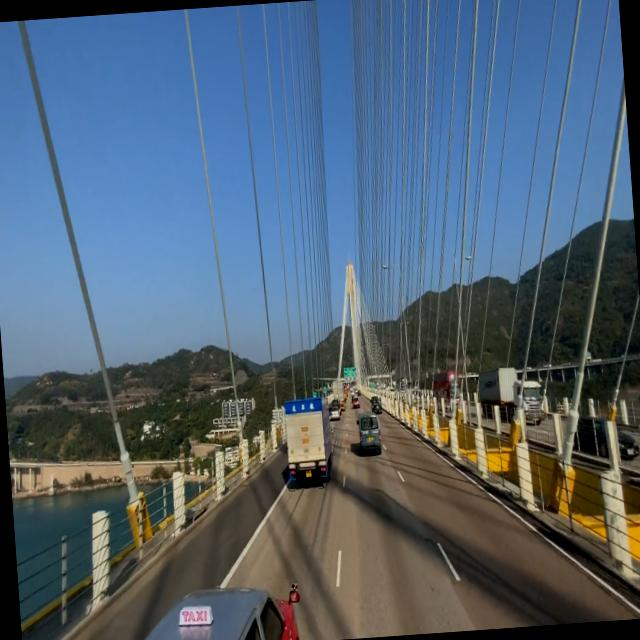Vehicle: (280, 394, 336, 489), (353, 407, 386, 461)
